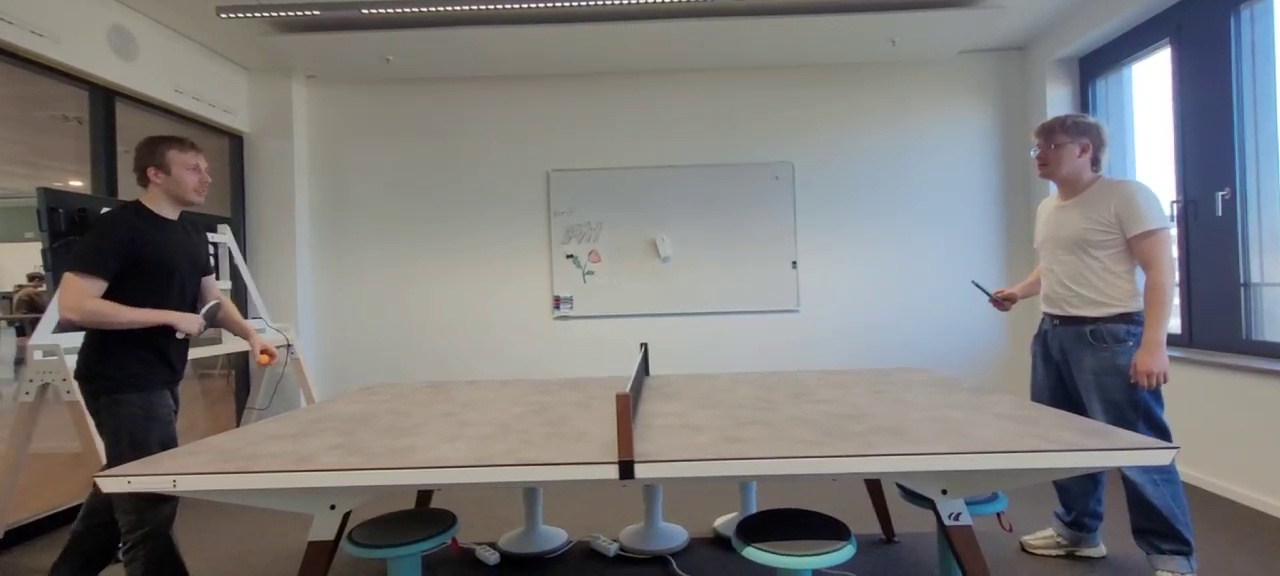plate: (94, 368, 1178, 475)
racket: (971, 279, 1000, 304), (200, 300, 221, 333)
ttball: (258, 354, 270, 365)
